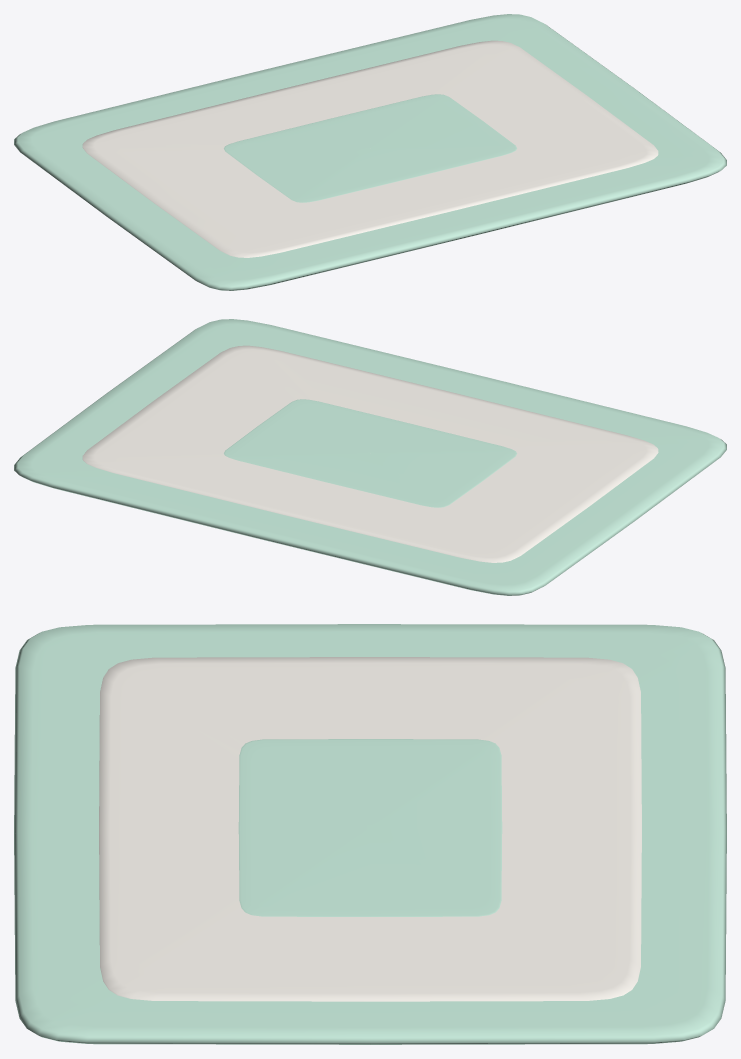
The model's file is companion-animals-and-pet-home-rug-3aff2413.glb.
3 views of the same model, one above another, from view 1: azimuth 30°, elevation 25°; view 2: azimuth 150°, elevation 25°; view 3: azimuth 270°, elevation 25° (orthographic). The views are drawn at different scales.
Parts seen in each view (by area): view 1: rug; view 2: rug; view 3: rug.
Part boxes in pixels (bbox=[...]): rug: bbox=[14, 14, 726, 290]; rug: bbox=[14, 319, 726, 595]; rug: bbox=[14, 624, 726, 1044].
Size of the model in its own units: 1.8 by 0.024 by 1.3.
